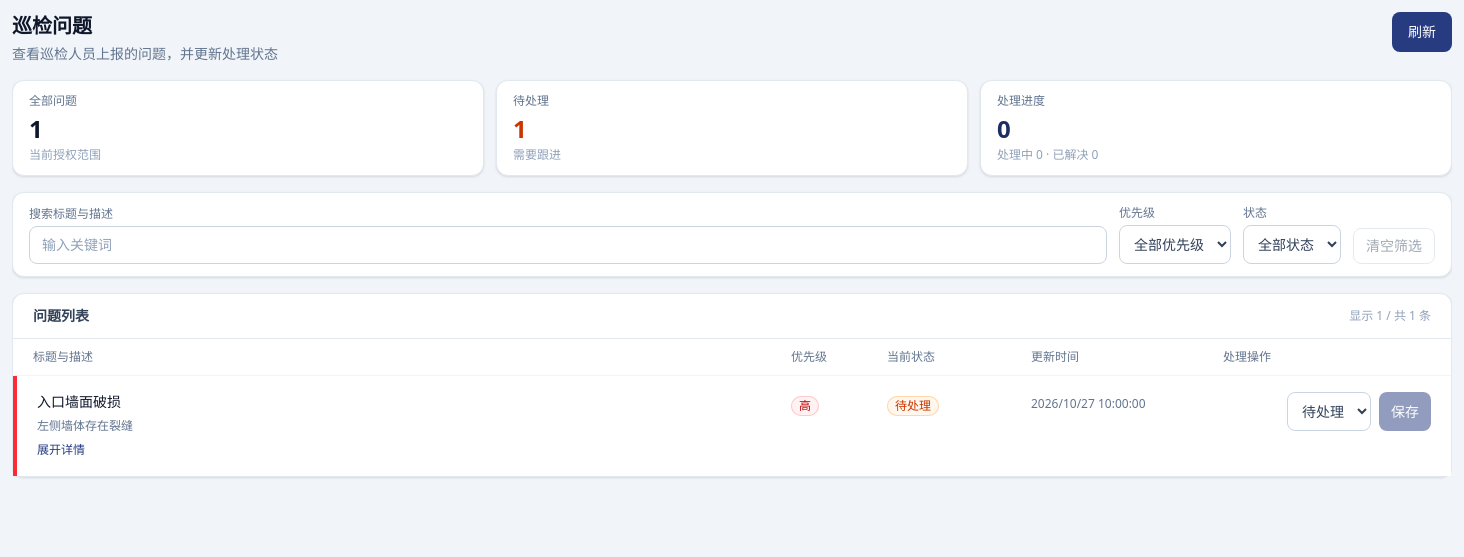
Test: 状态编辑与保存 › 保存失败保留原状态与未保存草稿，可在原行重试且无额外重试按钮
The width and height of the screenshot is (1464, 557).
Expected: the heading "入口墙面破损" is shown, [37, 392, 121, 411]
Select "处理中" in the dropdown named "修改问题「入口墙面破损」的处理状态" at x=1329, y=412, box [1287, 392, 1371, 431]
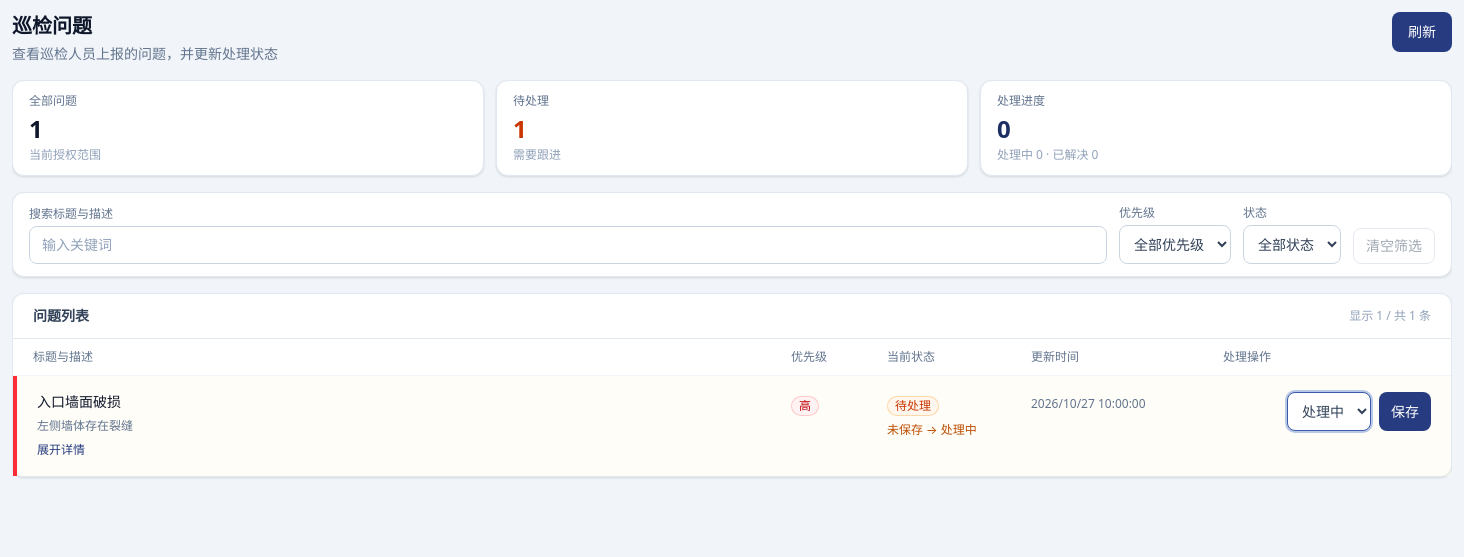
Click the button "保存" at x=1405, y=412, box [1379, 392, 1431, 431]
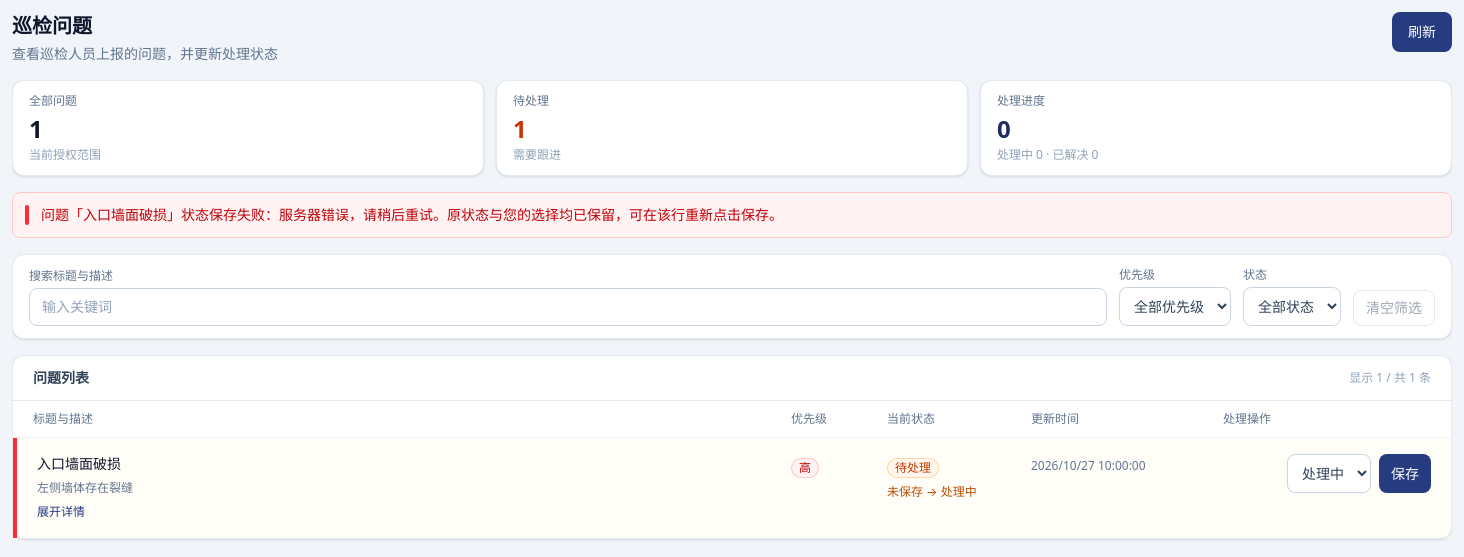
Expected: the text "待处理" next to "2026/10/27 10:00:00" is shown, [895, 459, 931, 476]
Expected: the button "保存" is enabled
Expected: the text "问题「入口墙面破损」状态保存失败：服务器错误，请稍后重试。原状态与您的选择均已保留，可在该行重新点击保存。" is shown, [41, 205, 783, 224]
Click the button "保存" at x=1405, y=474, box [1379, 454, 1431, 493]
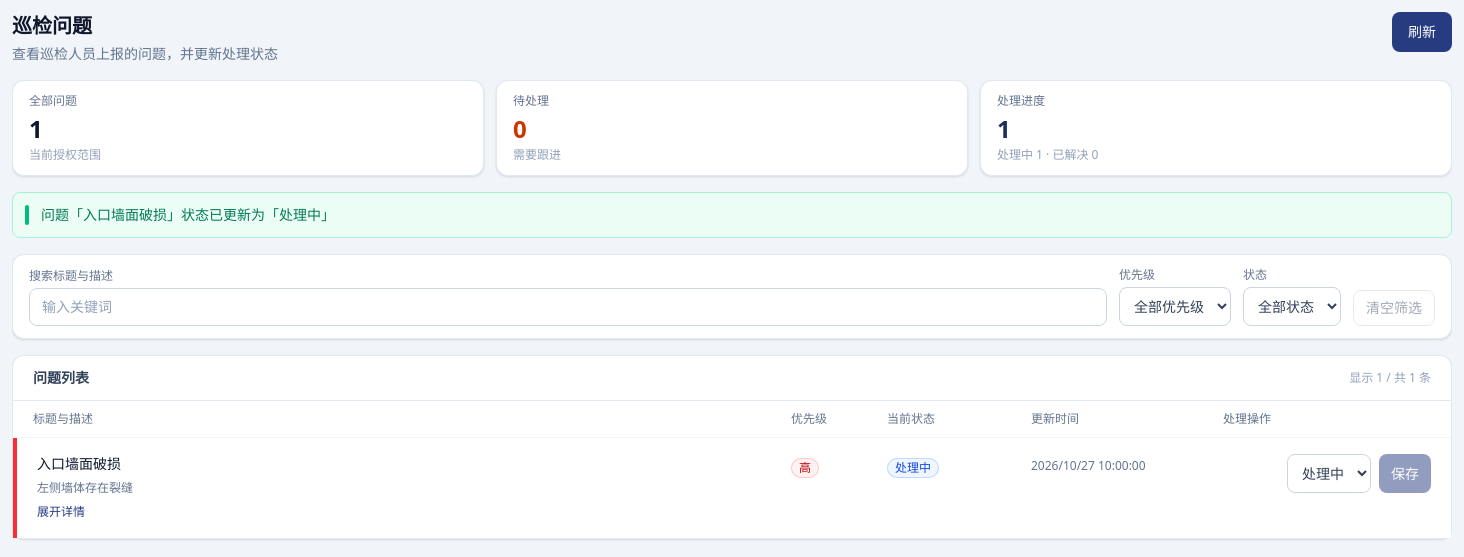
Expected: the text "问题「入口墙面破损」状态已更新为「处理中」" is shown, [41, 205, 335, 224]
